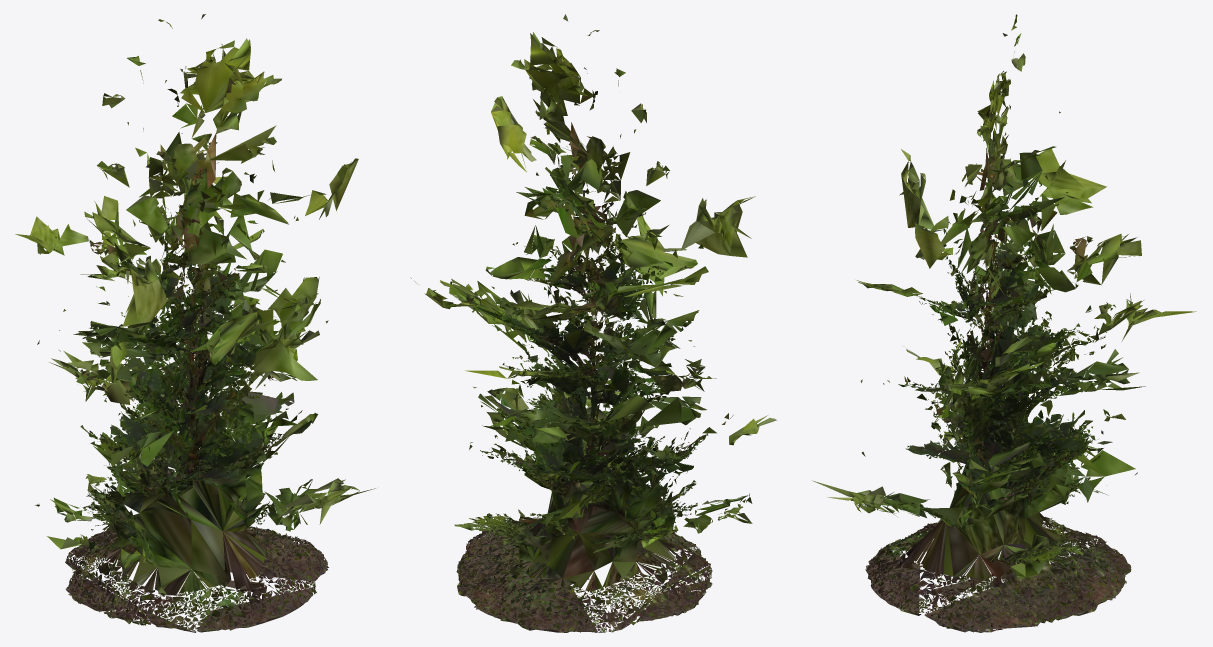
File: A_majestic_forest_fer.glb
3 renders of one model, left to right at view 1: azimuth 30°, elevation 25°; view 2: azimuth 150°, elevation 25°; view 3: azimuth 270°, elevation 25°, orthographic.
Parts seen in each view (by area): view 1: A_majestic_forest_fer_lite; view 2: A_majestic_forest_fer_lite; view 3: A_majestic_forest_fer_lite.
Part boxes in pixels (x1,y1,x2,y2): A_majestic_forest_fer_lite: (15, 14, 375, 632); A_majestic_forest_fer_lite: (410, 14, 776, 632); A_majestic_forest_fer_lite: (812, 14, 1196, 632).
Size of the model in its own units: 1.54 by 2.9 by 1.82.
1 material, 1 textured.
